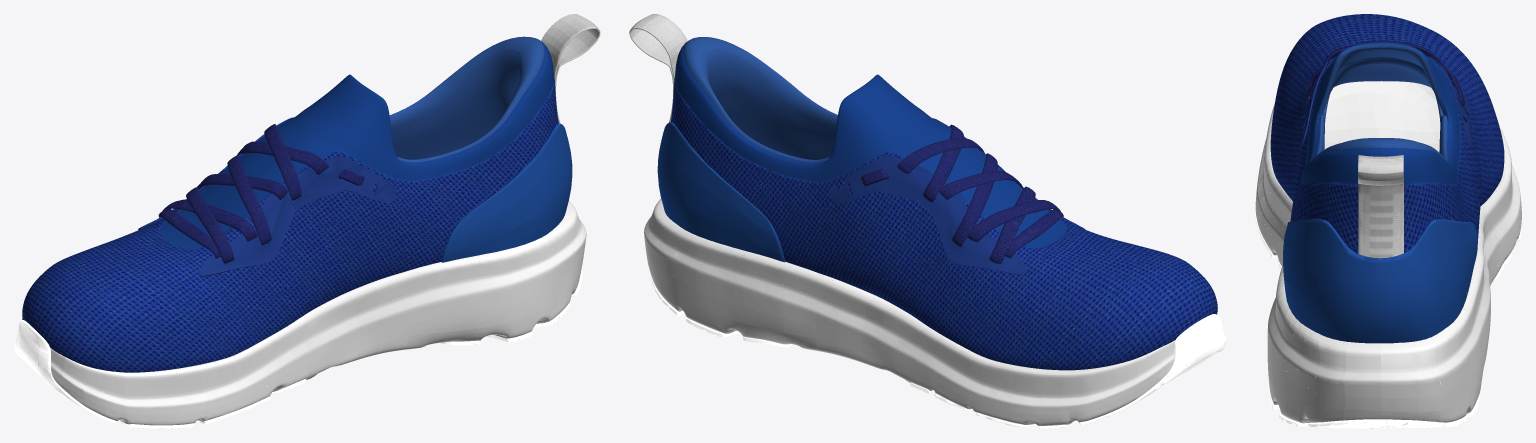
The model's file is shoeInteraktiveDraco.glb.
3 views of the same model, side by side, from view 1: azimuth 30°, elevation 25°; view 2: azimuth 150°, elevation 25°; view 3: azimuth 270°, elevation 25° (orthographic). The views are drawn at different scales.
Parts seen in each view (by area): view 1: pasted__polySurface1, Botto, pasted__polySurface2, pasted__polySurface14, pasted__polySurface5, pasted__polySurface9, pasted__polySurface6, pasted__polySurface7, pasted__polySurface18; view 2: pasted__polySurface1, Botto, pasted__polySurface2, pasted__polySurface14, pasted__polySurface8, pasted__polySurface6, pasted__polySurface9, pasted__polySurface18; view 3: pasted__polySurface1, Botto, pasted__polySurface2, Insole, pasted__polySurface9, pasted__polySurface18, pasted__polySurface14, pasted__polySurface5, pasted__polySurface8, pasted__polySurface7.
Boxes of the visible parts, <box> form: pasted__polySurface1: <box>22,36,558,372</box>; Botto: <box>22,200,586,425</box>; pasted__polySurface2: <box>441,123,572,262</box>; pasted__polySurface14: <box>158,124,328,263</box>; pasted__polySurface5: <box>199,156,396,276</box>; pasted__polySurface9: <box>541,14,600,123</box>; pasted__polySurface6: <box>14,320,116,422</box>; pasted__polySurface7: <box>118,379,306,428</box>; pasted__polySurface18: <box>440,266,582,345</box>; pasted__polySurface1: <box>670,37,1217,370</box>; Botto: <box>644,198,1217,425</box>; pasted__polySurface2: <box>657,122,784,262</box>; pasted__polySurface14: <box>897,124,1063,263</box>; pasted__polySurface8: <box>830,156,1027,275</box>; pasted__polySurface6: <box>1039,314,1226,428</box>; pasted__polySurface9: <box>629,14,687,122</box>; pasted__polySurface18: <box>649,270,790,347</box>; pasted__polySurface1: <box>1270,14,1504,289</box>; Botto: <box>1255,105,1521,423</box>; pasted__polySurface2: <box>1283,219,1477,343</box>; Insole: <box>1324,81,1440,152</box>; pasted__polySurface9: <box>1358,155,1403,258</box>; pasted__polySurface18: <box>1270,369,1479,428</box>; pasted__polySurface14: <box>1309,40,1461,97</box>; pasted__polySurface5: <box>1299,59,1330,149</box>; pasted__polySurface8: <box>1430,56,1471,147</box>; pasted__polySurface7: <box>1255,172,1521,279</box>.
Bounding box in the file's own units: 0.3544 × 0.1553 × 0.1217.
Materials: 7 (4 with a texture image).
